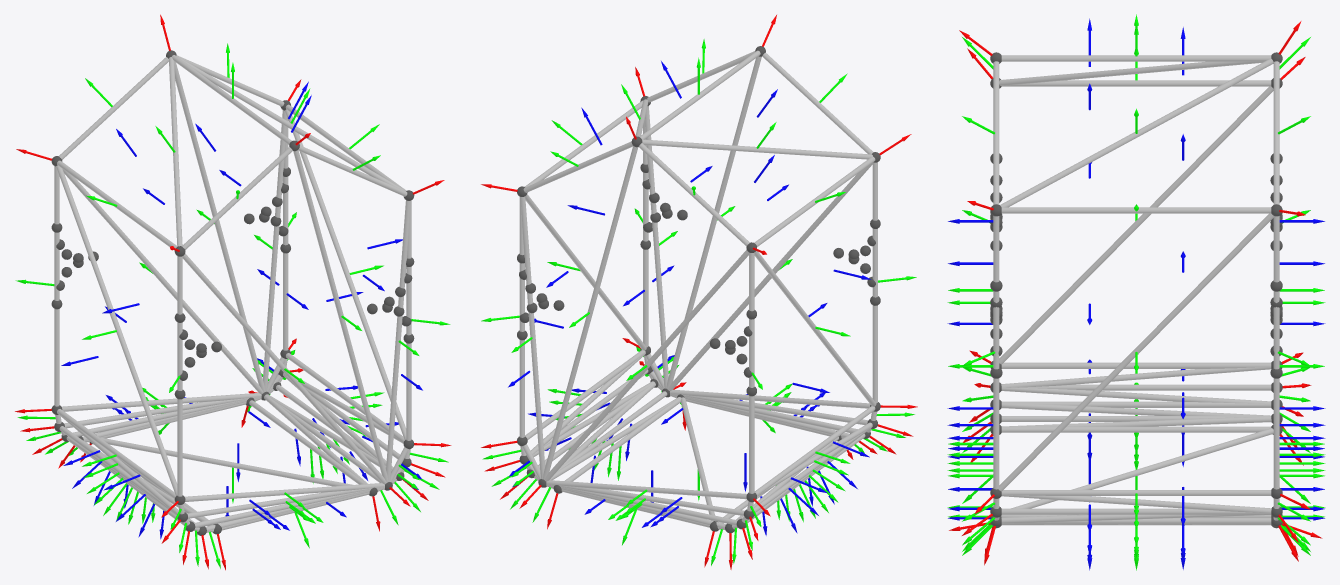
Rendered from onshape_house.gltf.
3 views of the same model, side by side, from view 1: azimuth 30°, elevation 25°; view 2: azimuth 150°, elevation 25°; view 3: azimuth 270°, elevation 25° (orthographic). The views are drawn at different scales.
Bounding box in the file's own units: 0.6489 × 0.9038 × 0.6158.
